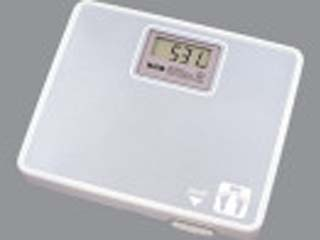LCD: (150, 36, 212, 73)
